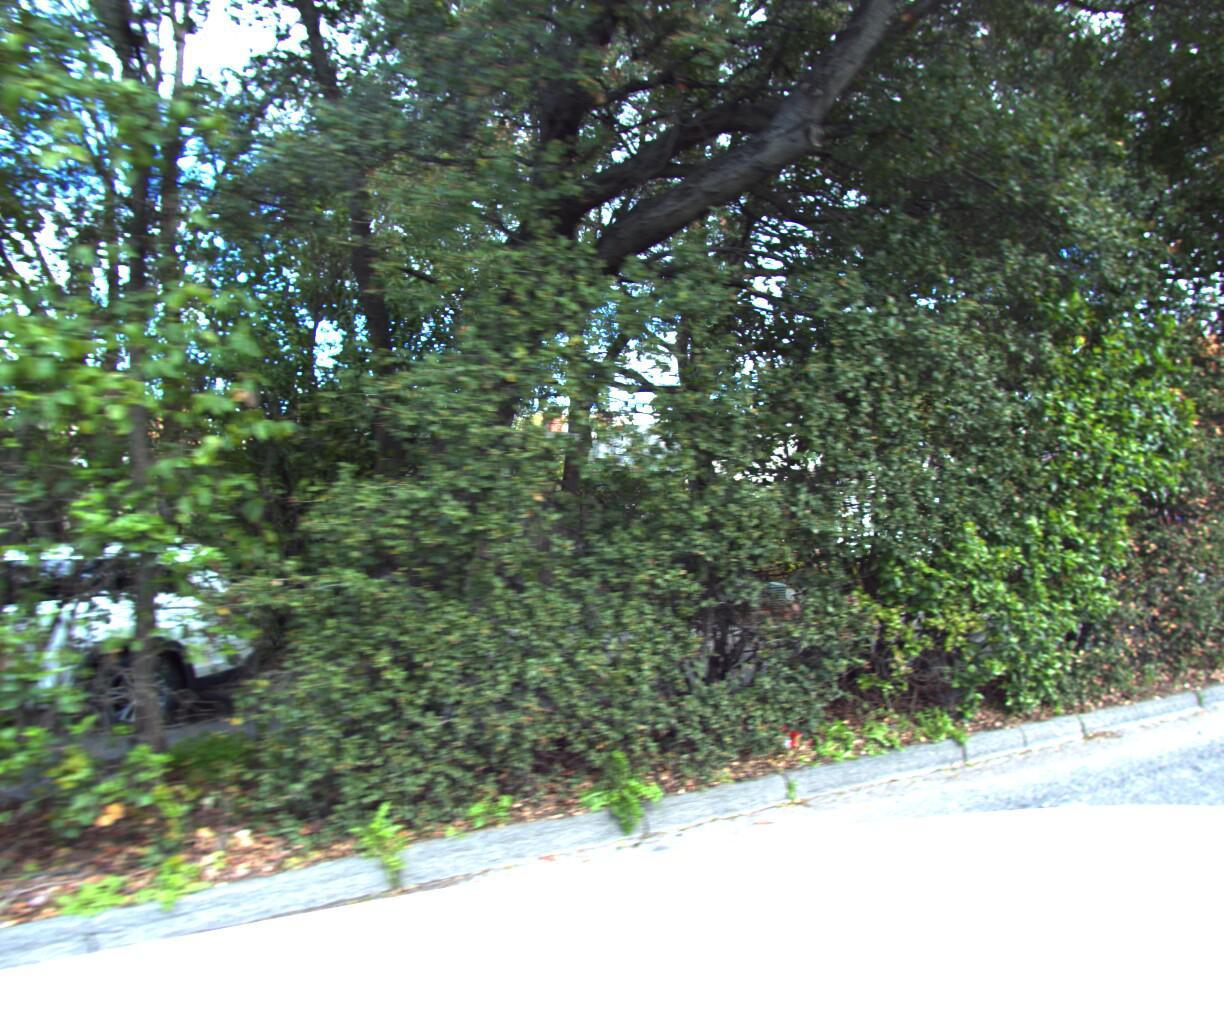car: (0, 524, 266, 825)
